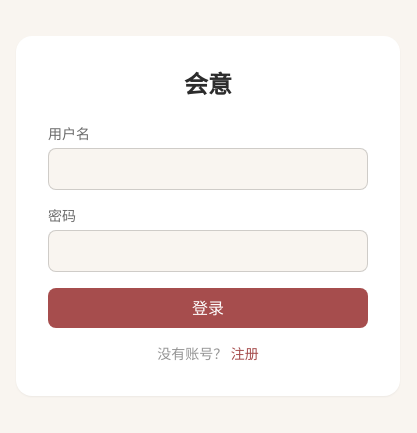
it: LoginPage › shows validation error when submitted empty
What coordinates should you click on to do the following:
click the button "登录"
I would click on:
 (208, 308)
Its box is [48,288,368,328].
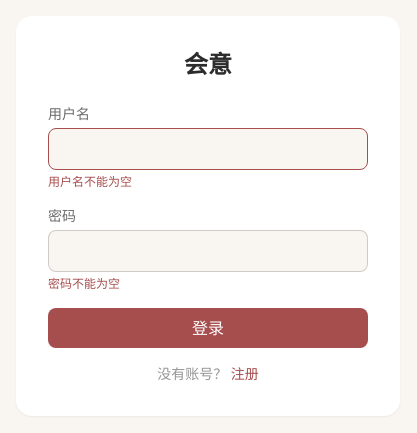
Expected: the text "用户名不能为空" is shown, [48,173,132,190]
